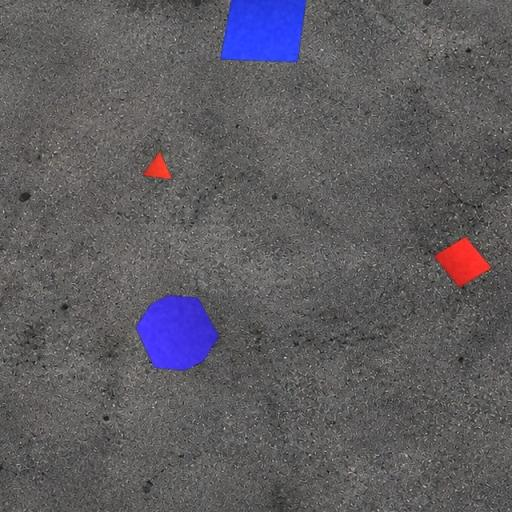BLUE_SQUARE: (219, 0, 309, 63)
RED_SQUARE: (434, 236, 492, 288)
